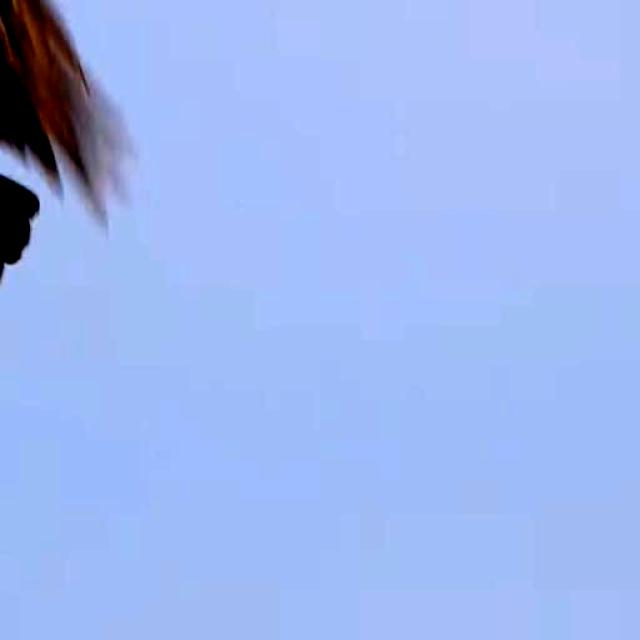airplane: (0, 0, 141, 410)
